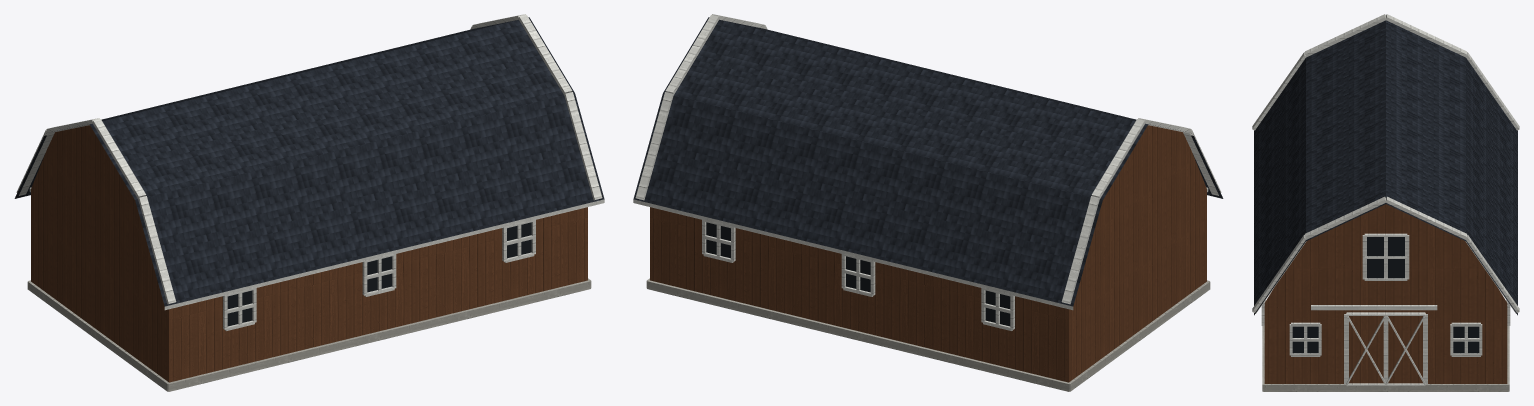
The model's file is barn-c.glb.
3 views of the same model, side by side, from view 1: azimuth 30°, elevation 25°; view 2: azimuth 150°, elevation 25°; view 3: azimuth 270°, elevation 25° (orthographic). The views are drawn at different scales.
Parts seen in each view (by area): view 1: barn-c2; view 2: barn-c2; view 3: barn-c2.
Part boxes in pixels (box(x1,y1,x2,y2)): barn-c2: box(14, 14, 604, 391); barn-c2: box(633, 14, 1223, 391); barn-c2: box(1252, 14, 1519, 391).
Size of the model in its own units: 4.9 by 2.36 by 2.94.
Materials: 5 (4 with a texture image).
